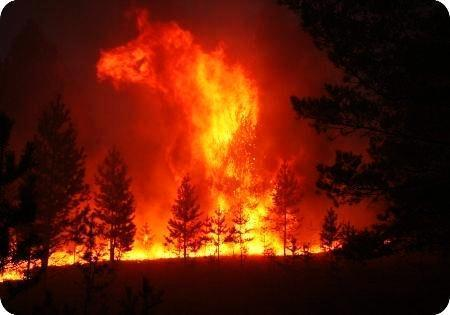fire: (11, 14, 348, 280)
